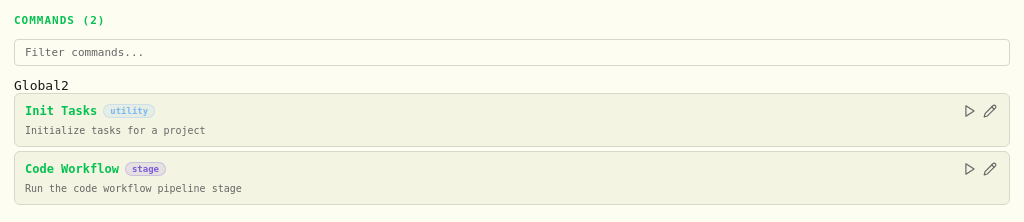
it: CommandsPanel › filters commands by description
Expected: the text "Code Workflow" is shown, [25,162,119,176]
In the field with placeholder "Filter commands...": (512, 52) [14,39,1010,66], type "pipeline"
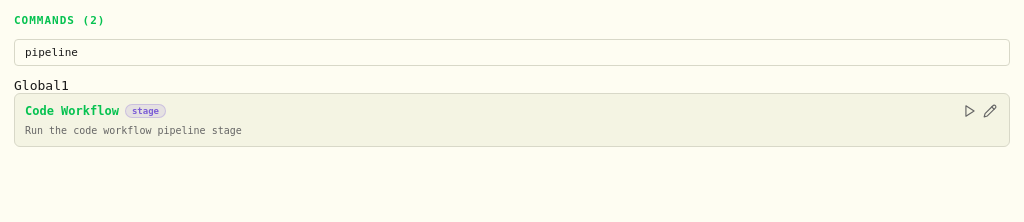
Expected: the text "Code Workflow" is shown, [25,104,119,118]
Now the text "Init Tasks" is gone
